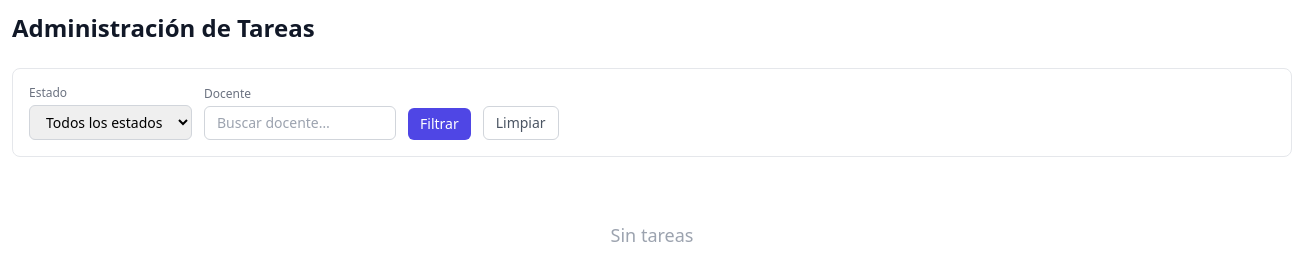
Scenario: AdminTareasPage › clears filters when clear button clicked
The image size is (1292, 259).
Type "Carlos" into the field with placeholder "Buscar docente…" at (300, 123), box [204,106,396,140]
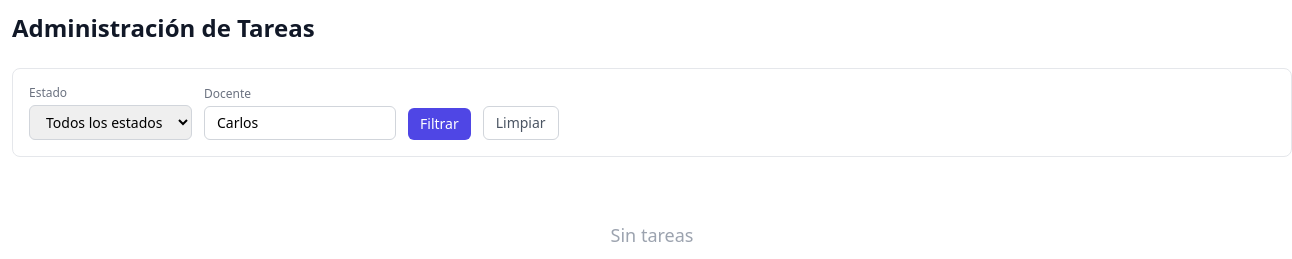
Click the button "Limpiar" at (521, 123), box [483,106,559,140]
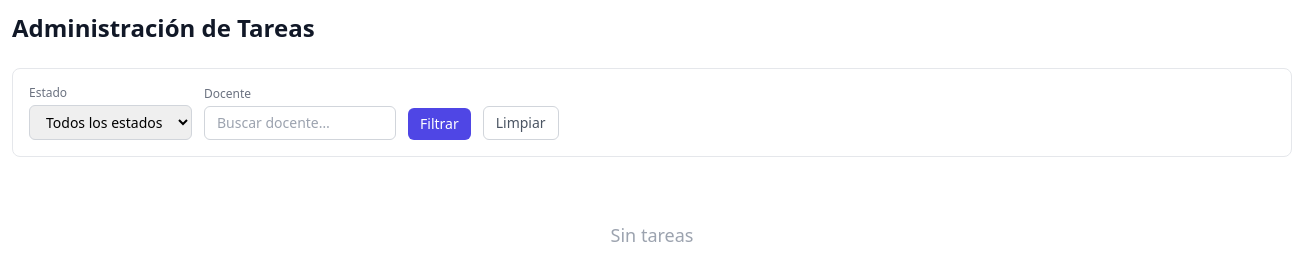
Result: the field with placeholder "Buscar docente…" is empty at [204,106,396,140]
